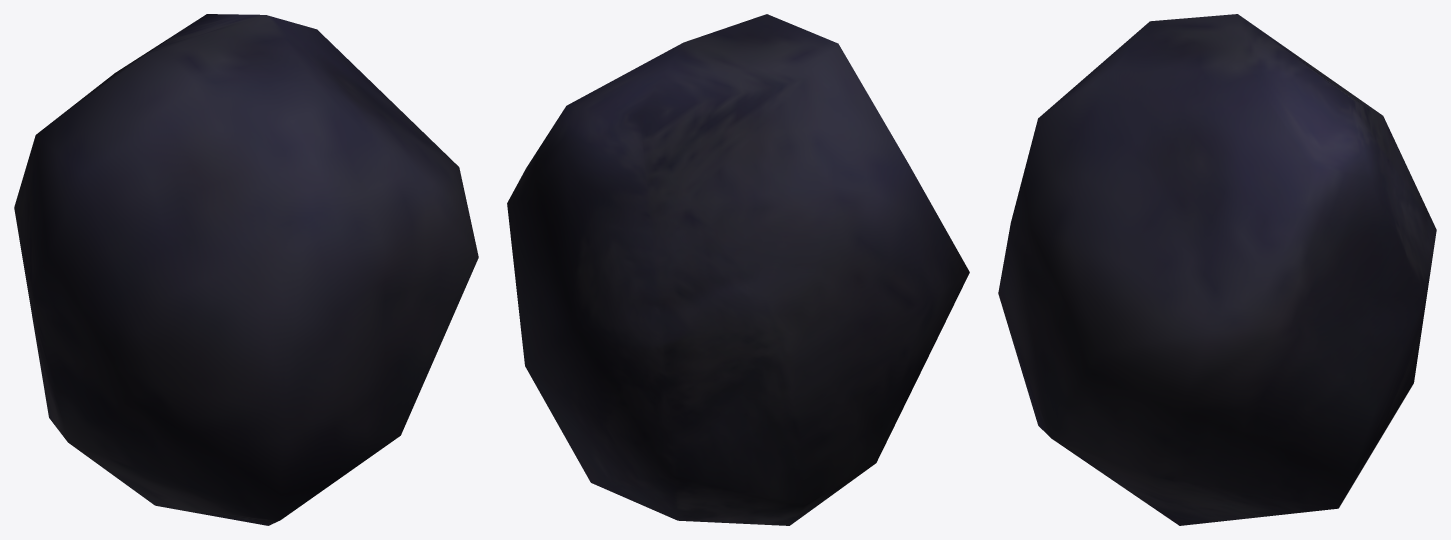
The model's file is SM_Gem_Obsidian_Piece_002.fbx.
3 views of the same model, side by side, from view 1: azimuth 30°, elevation 25°; view 2: azimuth 150°, elevation 25°; view 3: azimuth 270°, elevation 25° (orthographic).
Visible parts, largest first — view 1: SM_Gem_Obsidian_Piece_002; view 2: SM_Gem_Obsidian_Piece_002; view 3: SM_Gem_Obsidian_Piece_002.
Part boxes in pixels (<box>): SM_Gem_Obsidian_Piece_002: <box>14,14,478,525</box>; SM_Gem_Obsidian_Piece_002: <box>507,14,969,525</box>; SM_Gem_Obsidian_Piece_002: <box>998,14,1436,525</box>.
Size of the model in its own units: 14.73 by 16.23 by 13.59.
